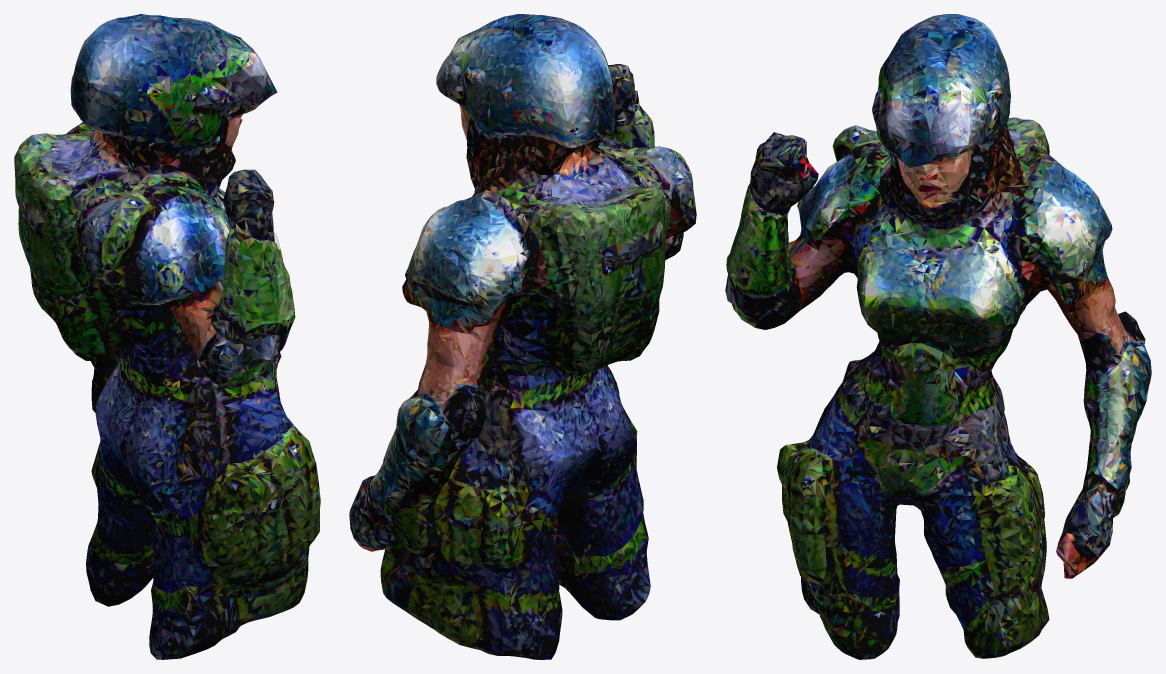
File: girl_armor-normal.glb
3 views of the same model, side by side, from view 1: azimuth 30°, elevation 25°; view 2: azimuth 150°, elevation 25°; view 3: azimuth 270°, elevation 25° (orthographic). The views are drawn at different scales.
Visible parts, largest first — view 1: extracted_mesh; view 2: extracted_mesh; view 3: extracted_mesh.
Part boxes in pixels (x1,y1,x2,y2): extracted_mesh: [14, 14, 320, 659]; extracted_mesh: [349, 14, 696, 659]; extracted_mesh: [725, 14, 1151, 659].
Size of the model in its own units: 0.4827 by 1.16 by 0.7347.
1 material, 1 textured.
